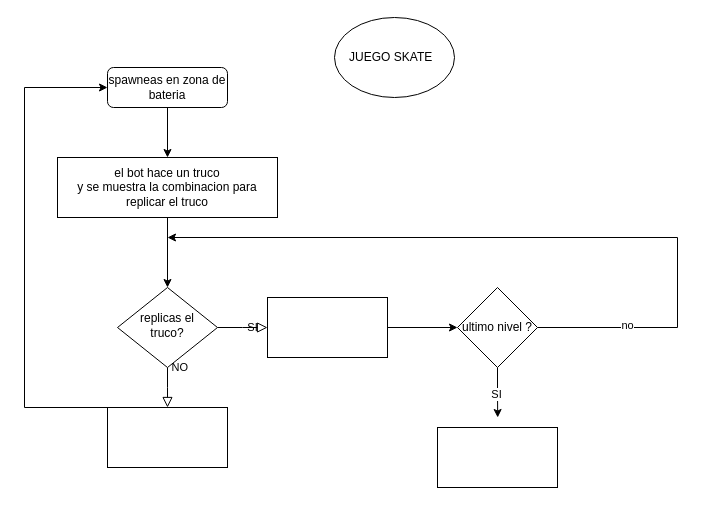
The diagram is 703 pixels wide and 505 high, and some of its shapes have lost their labels. Each missing label, with the centre of its shape:
"1 cambio de spot 2 truco del bot" belongs at pixel 327 327.
"FiNAL DEL JUEGO!" belongs at pixel 497 457.
"RESET" belongs at pixel 167 437.
